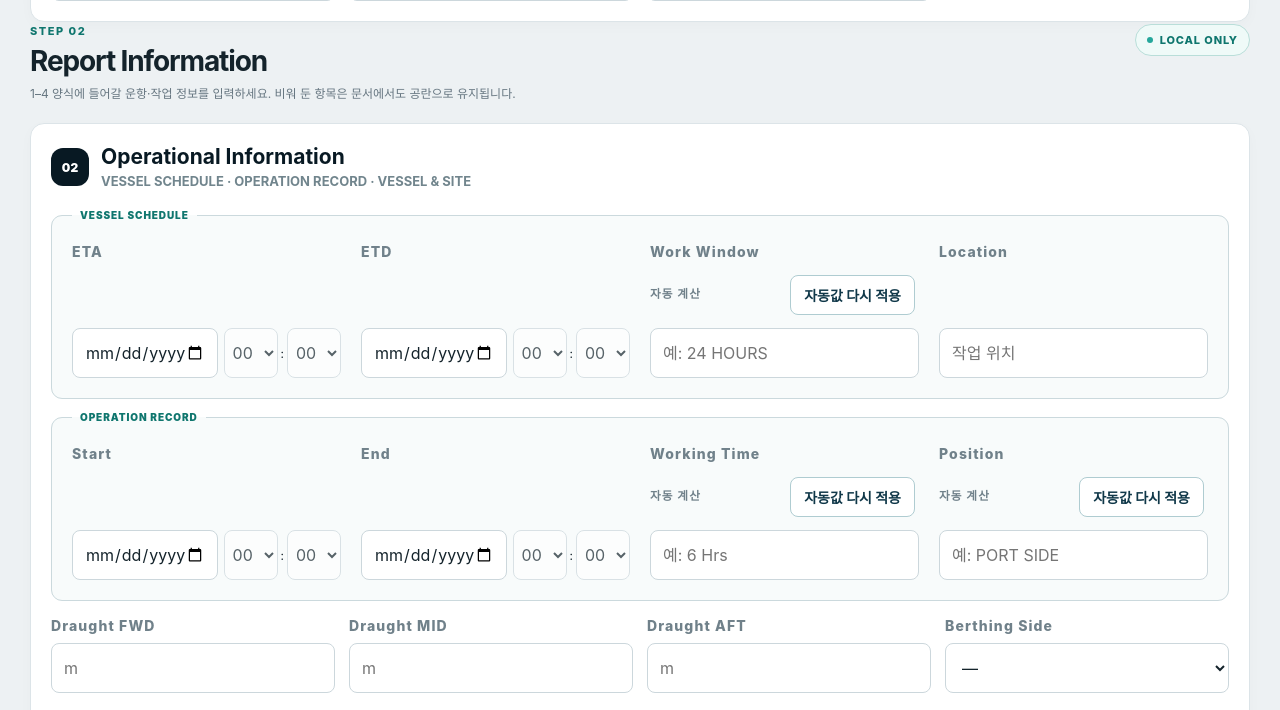
Scenario: Report Information › offers every hour in 24-hour notation and preserves dates when clearing or changing time
The width and height of the screenshot is (1280, 710).
(page scrolled)
Type "2026-09-09" into the date field named "ETA". click: (145, 353)
box: [72,328,218,378]
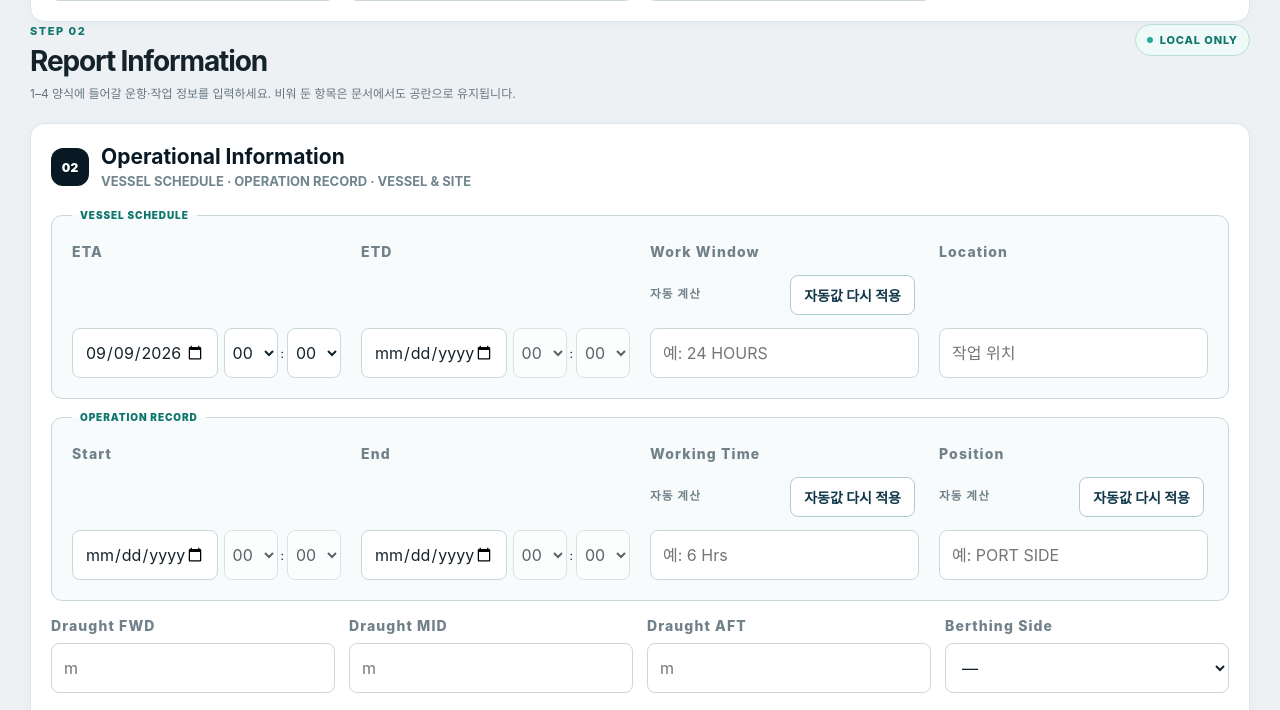
Select "23" in the dropdown named "ETA 시 (24시간)". click: (250, 353)
box: [224,328,278,378]
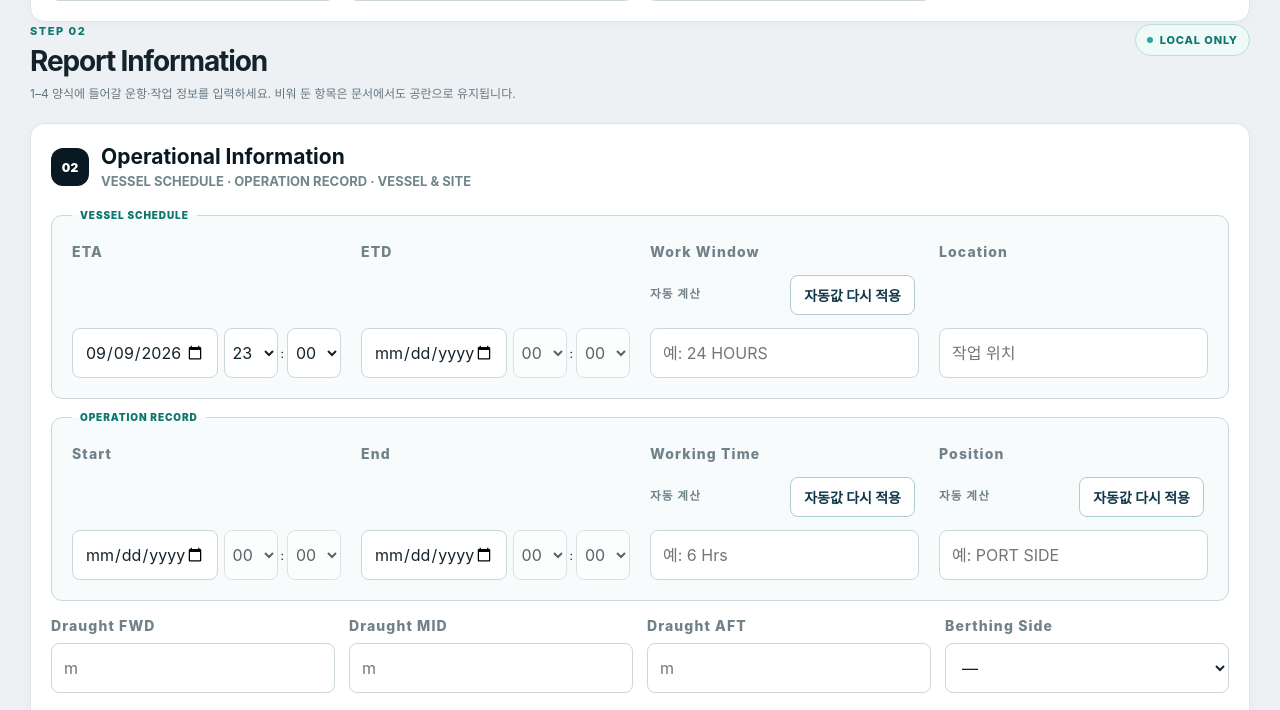
Select "59" in the dropdown named "ETA 분". click: (314, 353)
box: [287,328,341,378]
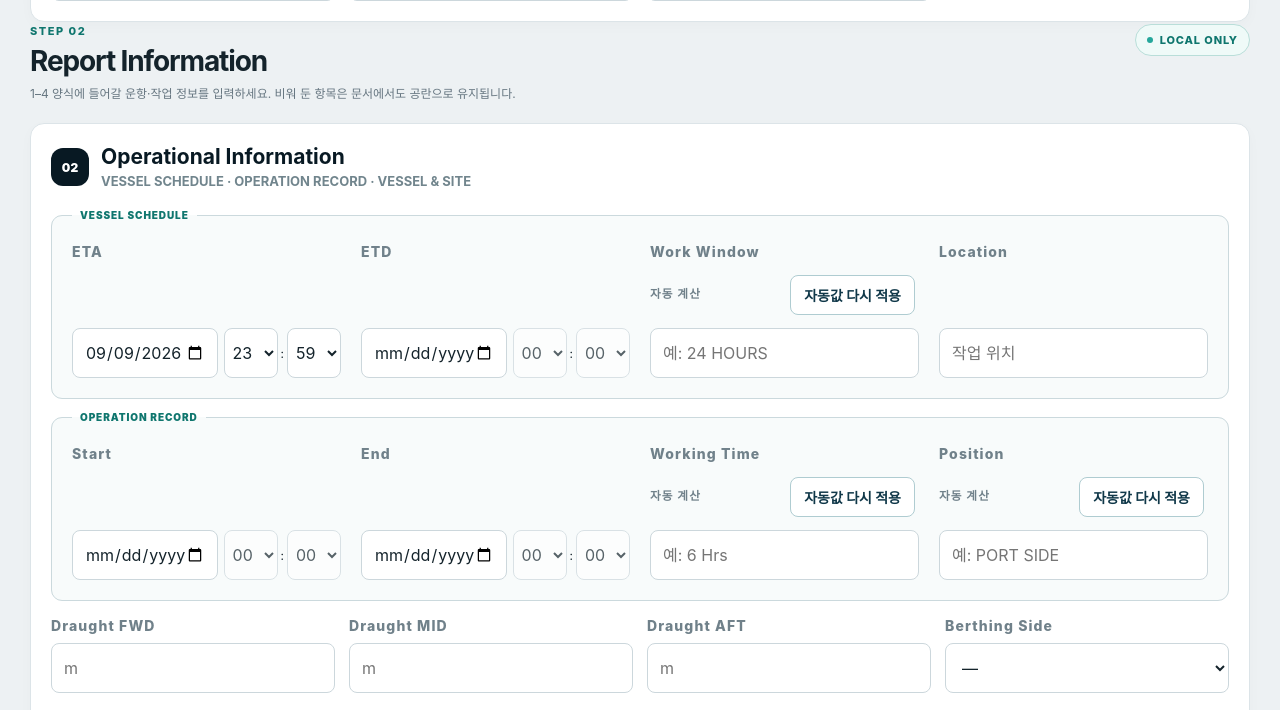
Type "2026-09-10" into the date field named "ETD". click: (434, 353)
box: [361,328,506,378]
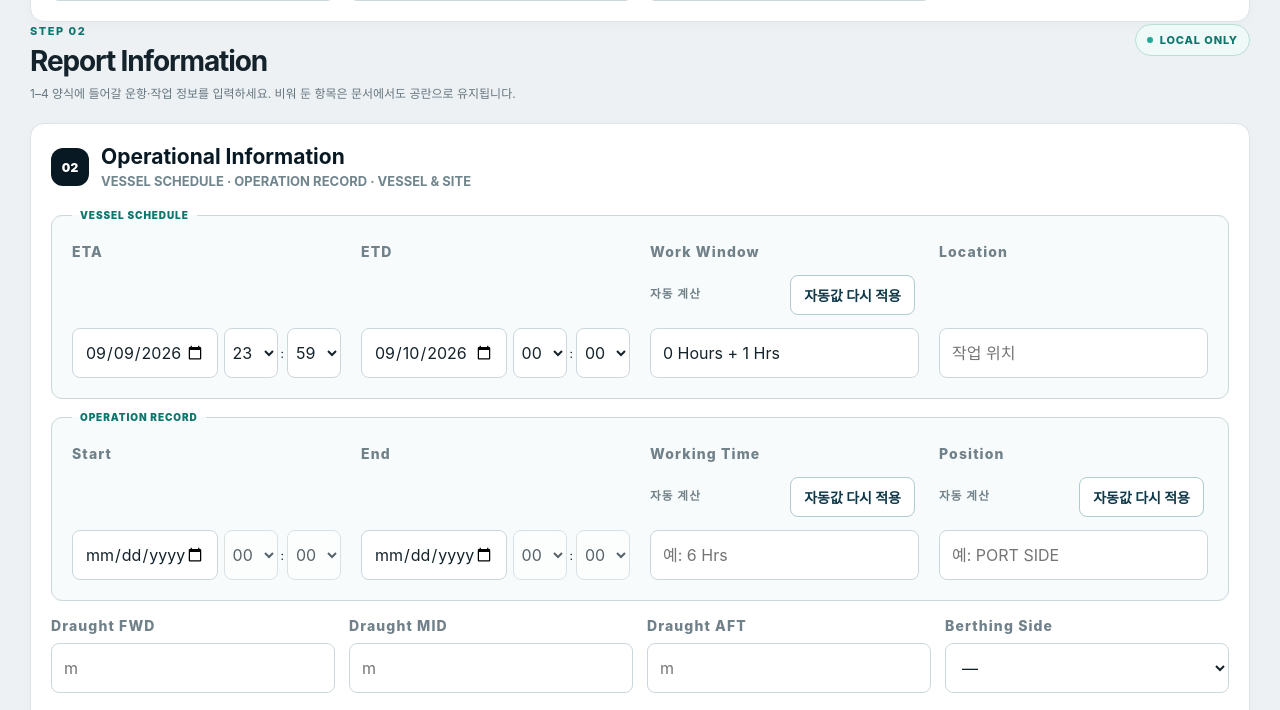
Select "59" in the dropdown named "ETD 분". click: (603, 353)
box: [576,328,630,378]
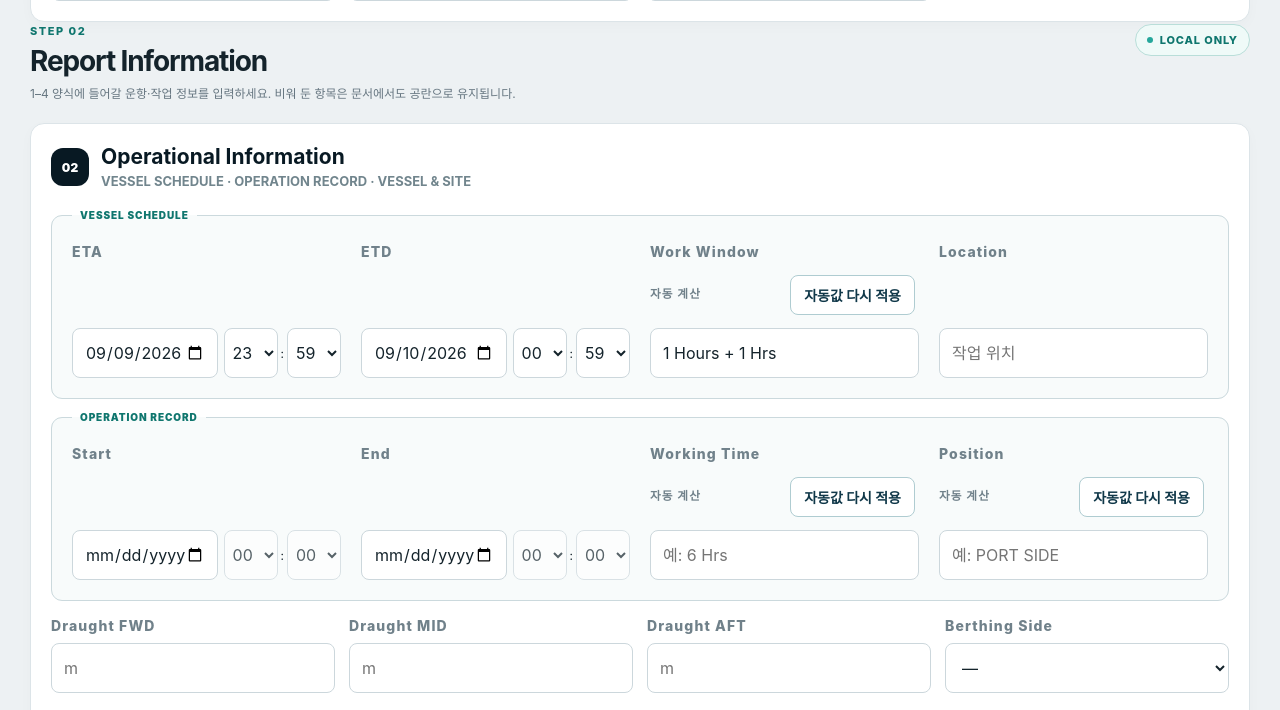
Now the field named "Work Window" holds "1 Hours + 1 Hrs", box [650,328,919,378]
Clear the date field named "ETA". click: (145, 353)
box: [72,328,218,378]
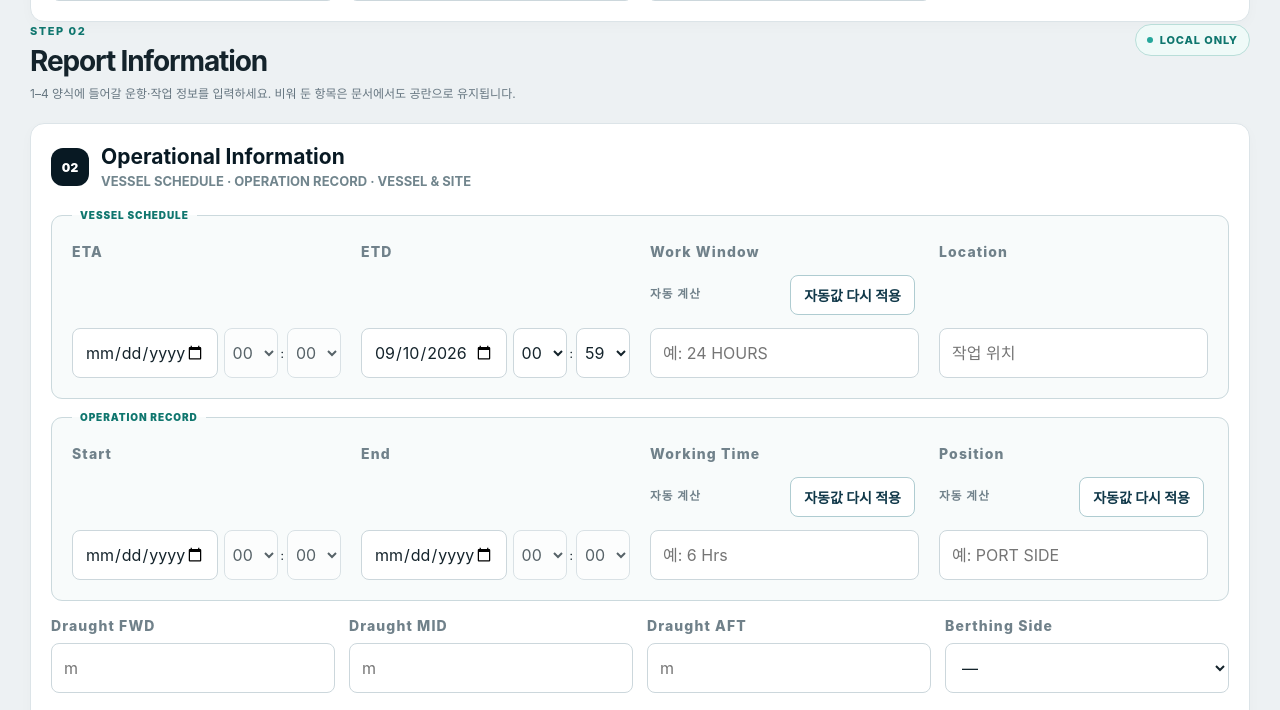
Now the dropdown named "ETA 시 (24시간)" is disabled, box [224,328,278,378]
